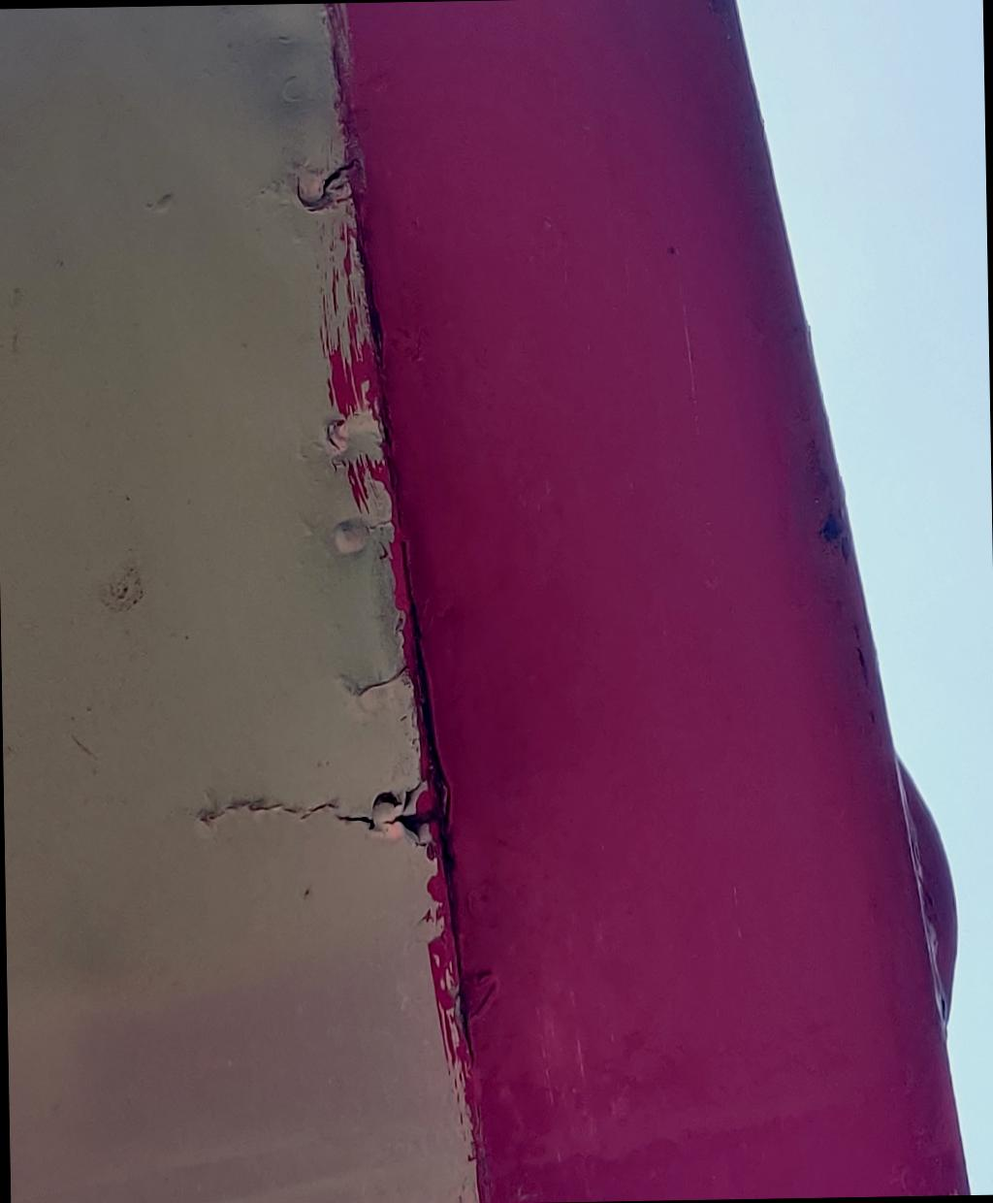crack: (178, 752, 464, 863), (295, 137, 381, 227), (345, 648, 423, 720)
